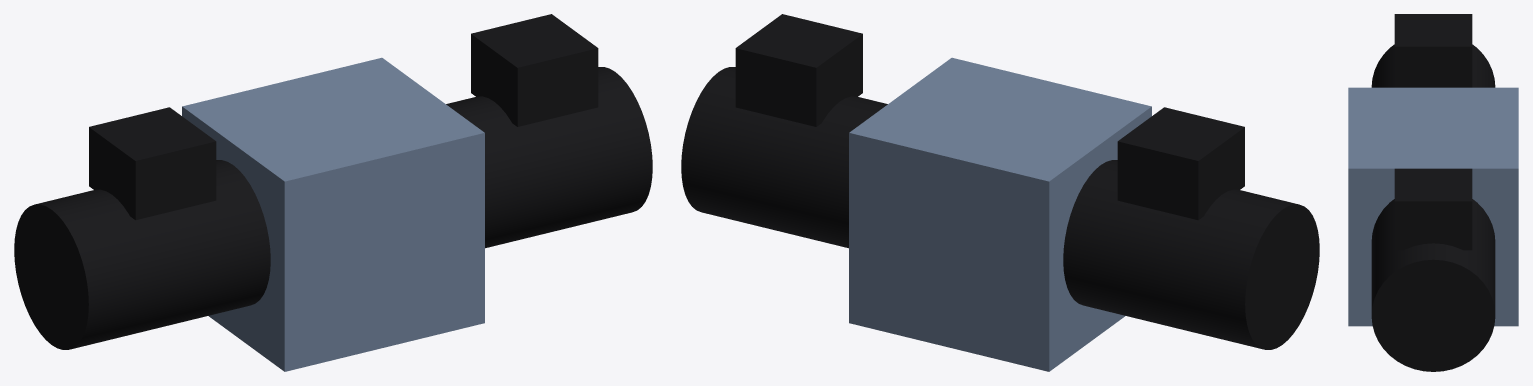
File: demo-valve-cetop3.glb
3 views of the same model, side by side, from view 1: azimuth 30°, elevation 25°; view 2: azimuth 150°, elevation 25°; view 3: azimuth 270°, elevation 25° (orthographic). The views are drawn at different scales.
Visible parts, largest first — view 1: body, coil-b, coil-a, connector-a, connector-b; view 2: body, coil-b, coil-a, connector-a, connector-b; view 3: body, coil-a, connector-a, connector-b, coil-b.
Part boxes in pixels (x1=…): body: x1=182, y1=57, x2=484, y2=371; coil-b: x1=14, y1=160, x2=270, y2=349; coil-a: x1=446, y1=67, x2=652, y2=248; connector-a: x1=471, y1=14, x2=598, y2=126; connector-b: x1=89, y1=107, x2=216, y2=220; body: x1=849, y1=57, x2=1151, y2=371; coil-b: x1=1063, y1=160, x2=1319, y2=349; coil-a: x1=681, y1=67, x2=887, y2=248; connector-a: x1=735, y1=14, x2=862, y2=126; connector-b: x1=1117, y1=107, x2=1244, y2=220; body: x1=1348, y1=87, x2=1518, y2=326; coil-a: x1=1371, y1=199, x2=1495, y2=371; connector-a: x1=1394, y1=168, x2=1472, y2=250; connector-b: x1=1394, y1=14, x2=1472, y2=87; coil-b: x1=1371, y1=44, x2=1495, y2=87.
Bounding box in the file's own units: 0.1395 × 0.052 × 0.044.
